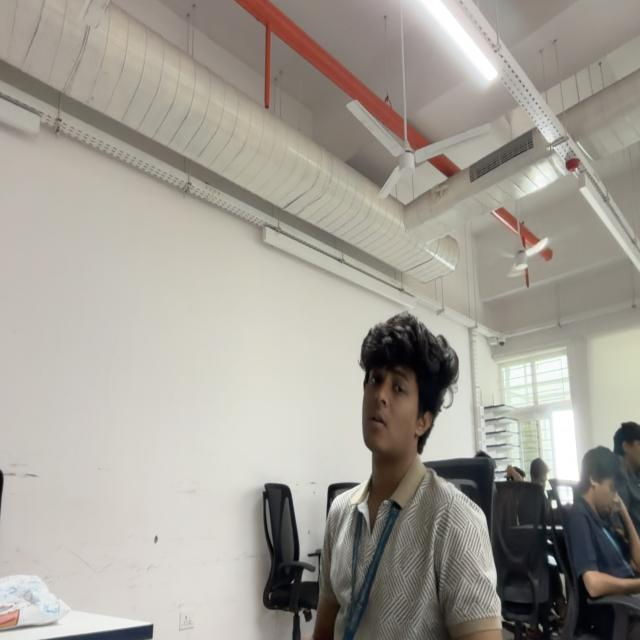kshitij: (360, 313, 458, 469)
